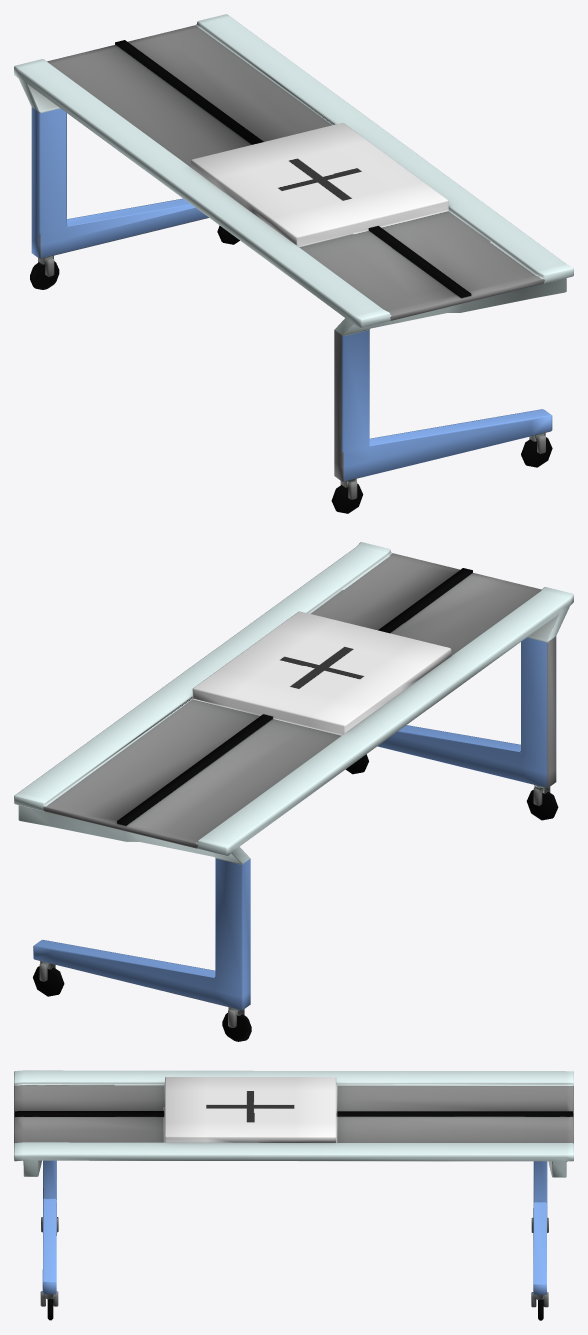
Rendered from table trial 2.fbx.
3 views of the same model, one above another, from view 1: azimuth 30°, elevation 25°; view 2: azimuth 150°, elevation 25°; view 3: azimuth 270°, elevation 25° (orthographic). The views are drawn at different scales.
Visible parts, largest first — view 1: Plane; view 2: Plane, Circle.002; view 3: Plane.
Boxes of the visible parts, bbox=[...] form: Plane: bbox=[14, 14, 573, 499]; Plane: bbox=[14, 542, 573, 1027]; Circle.002: bbox=[33, 966, 64, 996]; Plane: bbox=[14, 1070, 573, 1307].
Bounding box in the file's own units: 279 × 266 × 764.
Materials: 6 (6 with a texture image).
